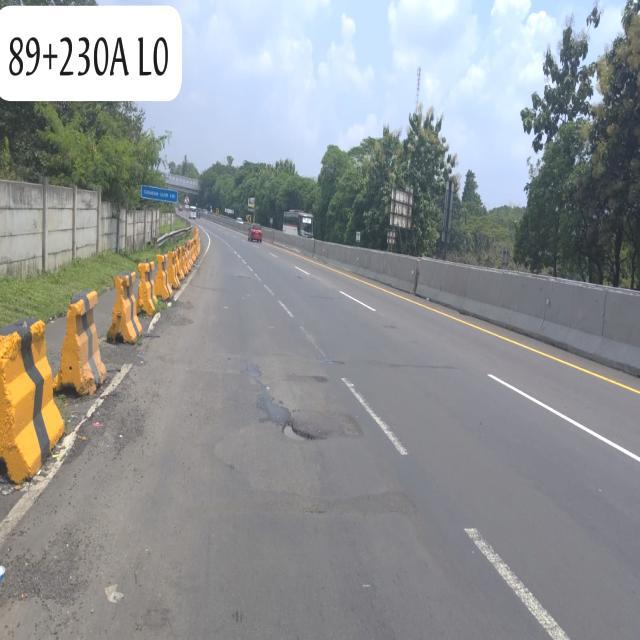Buraco: (278, 418, 319, 444)
